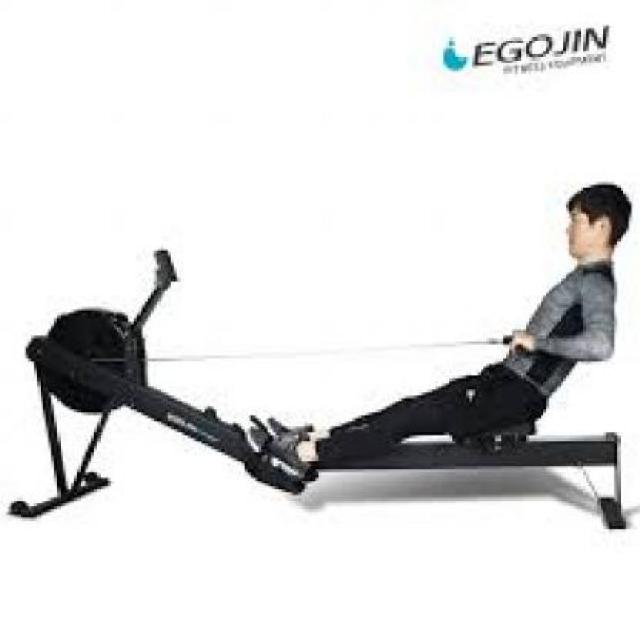Seated Cable Rows: (3, 174, 640, 543)
